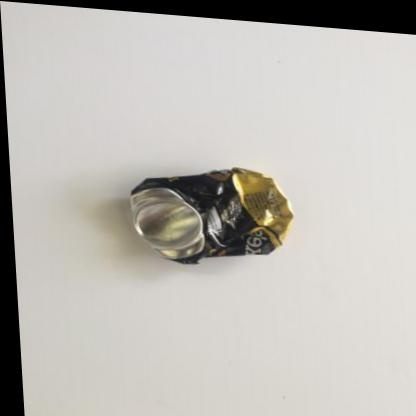trash: (130, 168, 292, 263)
